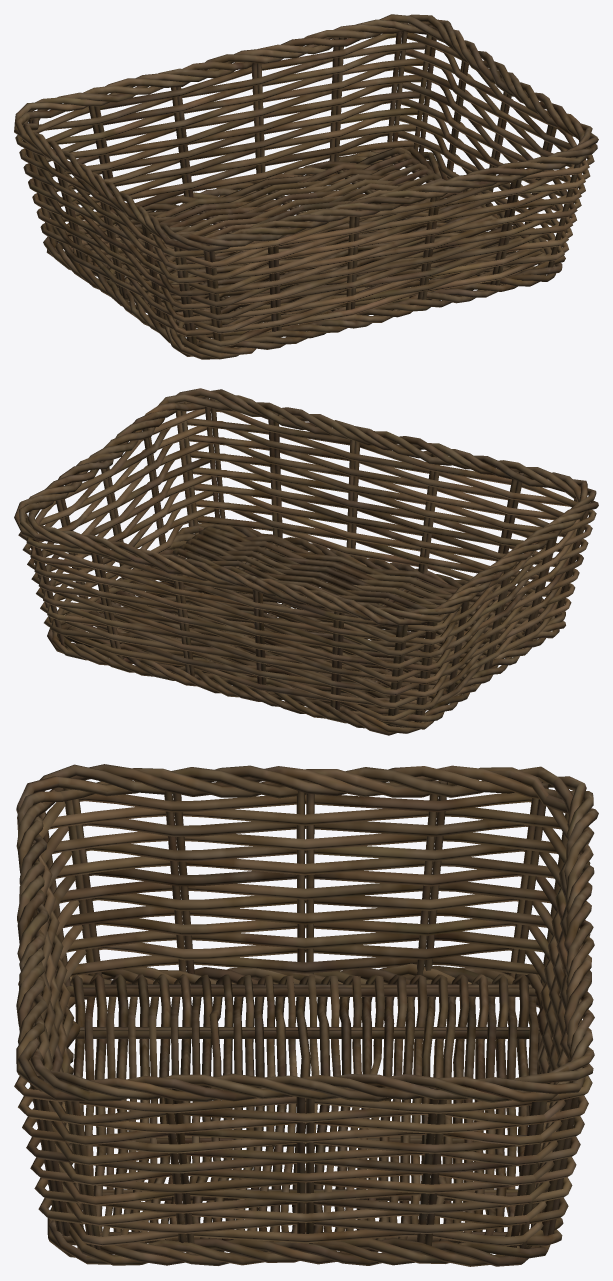
File: laundry_basket.glb
3 views of the same model, one above another, from view 1: azimuth 30°, elevation 25°; view 2: azimuth 150°, elevation 25°; view 3: azimuth 270°, elevation 25° (orthographic). The views are drawn at different scales.
Visible parts, largest first — view 1: wicker_basket_01; view 2: wicker_basket_01; view 3: wicker_basket_01.
Boxes of the visible parts, x1=… form: wicker_basket_01: x1=14, y1=14, x2=598, y2=359; wicker_basket_01: x1=14, y1=388, x2=598, y2=735; wicker_basket_01: x1=14, y1=764, x2=598, y2=1266.
Size of the model in its own units: 0.3832 by 0.1174 by 0.295.
Materials: 1 (1 with a texture image).
